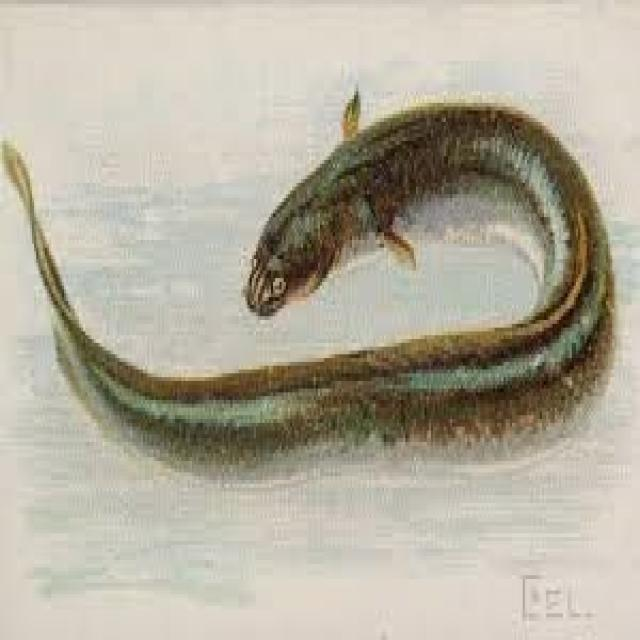Freshwater-Eel: (0, 88, 640, 506)
